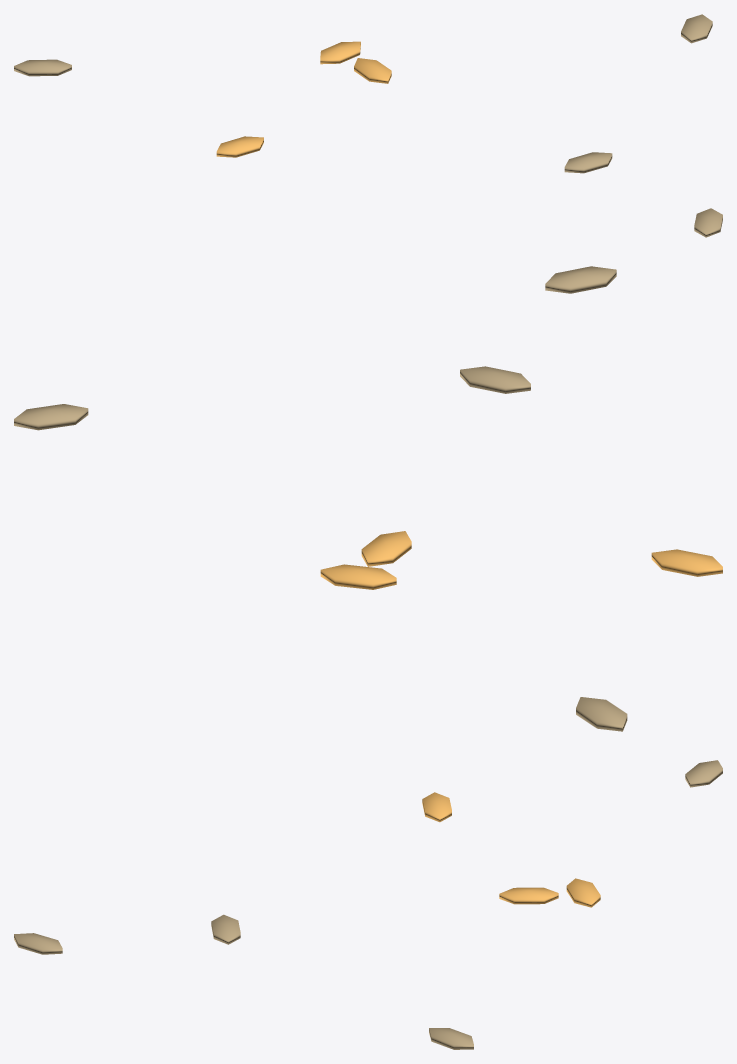
File: layer_autumn_sparse_low.glb
3 views of the same model, one above another, from view 1: azimuth 30°, elevation 25°; view 2: azimuth 150°, elevation 25°; view 3: azimuth 270°, elevation 25° (orthographic). The views are drawn at different scales.
Bounding box in the file's own units: 2.06 × 0.0351 × 2.17.
